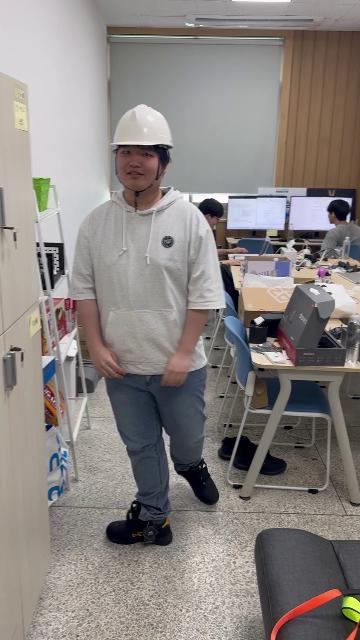helmet_worn: (108, 102, 176, 149)
shoe_not_worn: (220, 434, 284, 473), (218, 434, 245, 461)
shoe_worn: (106, 502, 174, 545), (175, 458, 219, 506)
vest_not_worn: (79, 197, 210, 378)
